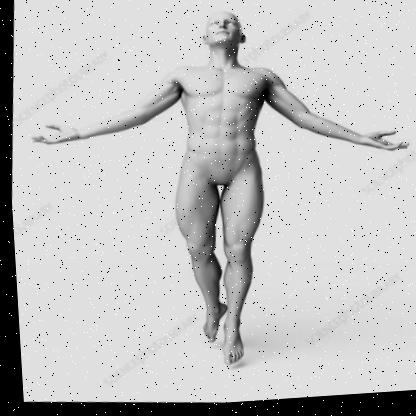person: (9, 0, 416, 408)
